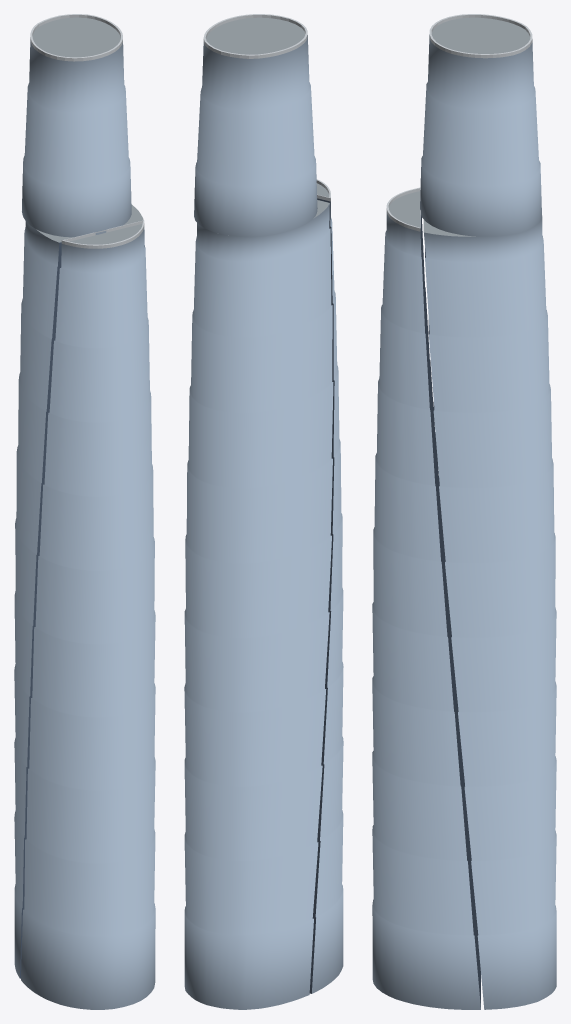
The model's file is chongqing-international-land-sea-center.glb.
3 views of the same model, side by side, from view 1: azimuth 30°, elevation 25°; view 2: azimuth 150°, elevation 25°; view 3: azimuth 270°, elevation 25° (orthographic).
Visible parts, largest first — view 1: International Land-Sea Center; view 2: International Land-Sea Center; view 3: International Land-Sea Center.
Boxes of the visible parts, x1,y1,x2,y2 form: International Land-Sea Center: [14, 14, 155, 1009]; International Land-Sea Center: [184, 14, 343, 1009]; International Land-Sea Center: [372, 14, 556, 1009].
Size of the model in its own units: 59.75 by 458 by 80.88.
